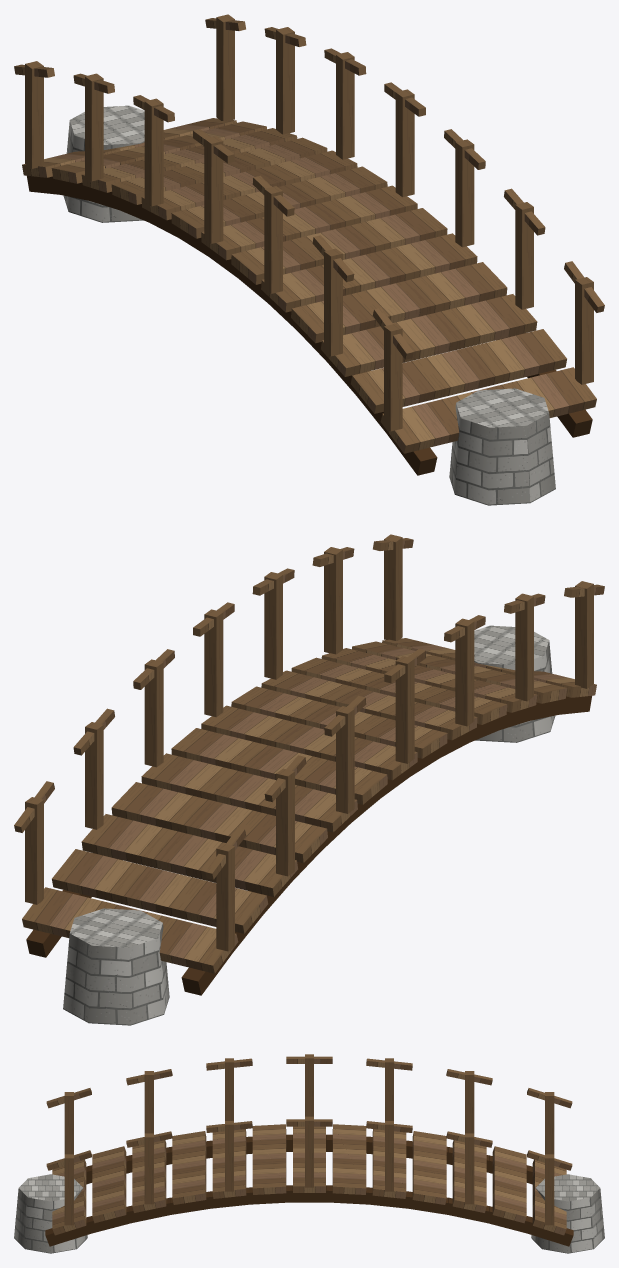
Rendered from bridge.glb.
3 renders of one model, top to bottom at view 1: azimuth 30°, elevation 25°; view 2: azimuth 150°, elevation 25°; view 3: azimuth 270°, elevation 25°, orthographic. The views are drawn at different scales.
Parts seen in each view (by area): view 1: bridge; view 2: bridge; view 3: bridge.
Part boxes in pixels (x1,y1,x2,y2): bridge: (14,14,604,505); bridge: (14,534,604,1025); bridge: (14,1054,604,1253).
Bounding box in the file's own units: 1.7 × 1.8 × 6.4.
3 materials, 2 textured.
